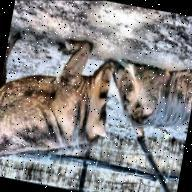boar: (0, 18, 119, 182), (103, 47, 192, 148)
